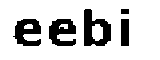b: (83, 7, 112, 51)
e: (46, 20, 80, 52), (14, 17, 43, 50)
i: (119, 5, 137, 50)
